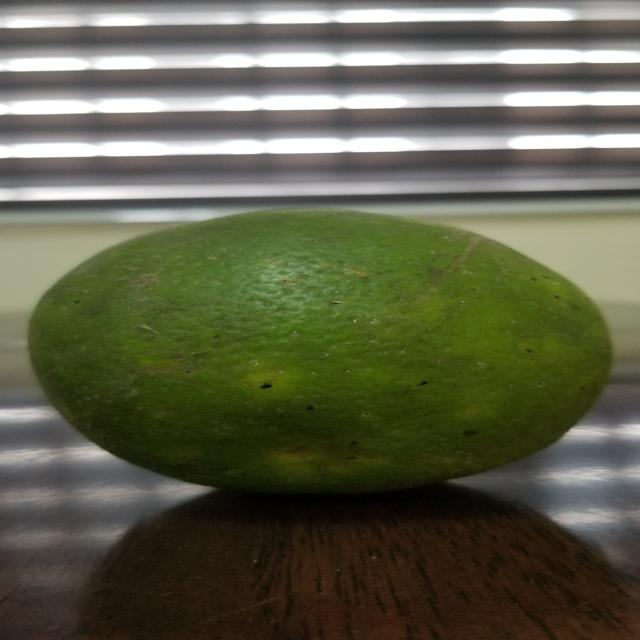Ripe orange: (0, 197, 640, 500)
